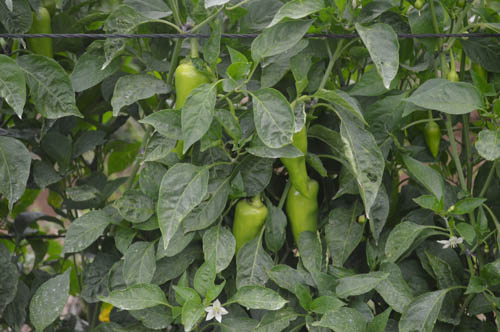ChiliPepper: (286, 180, 321, 253), (173, 64, 206, 141), (282, 126, 311, 196), (229, 201, 263, 258), (424, 123, 441, 155)
